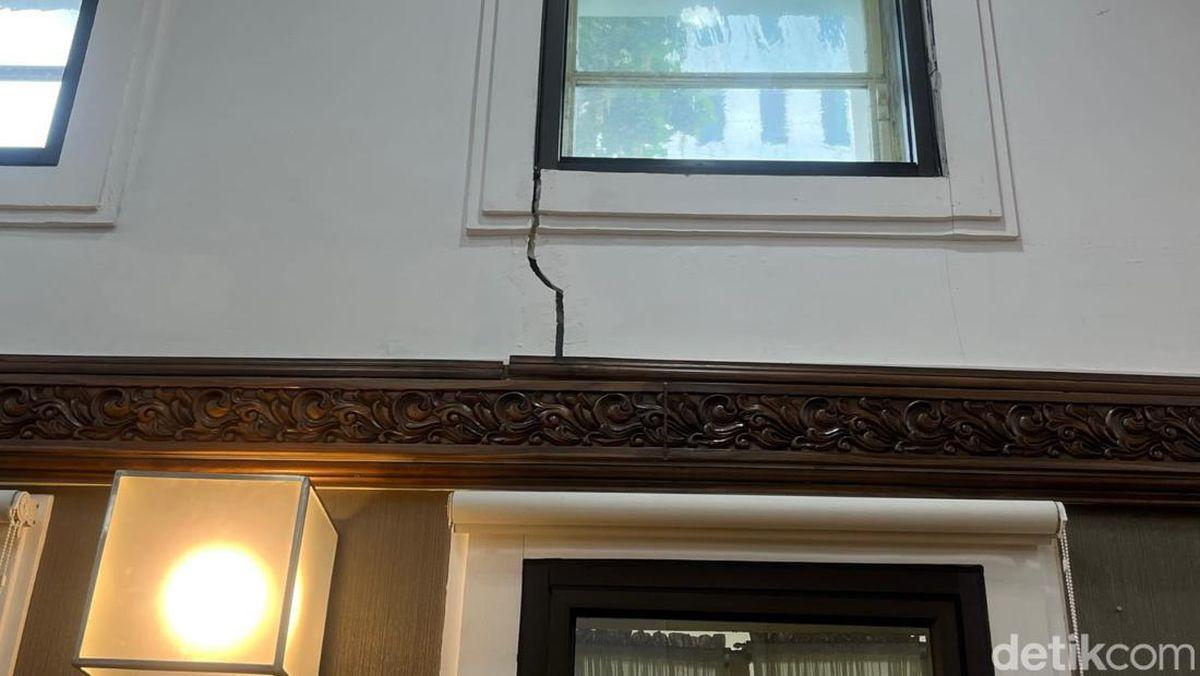Crack: (512, 158, 580, 370)
